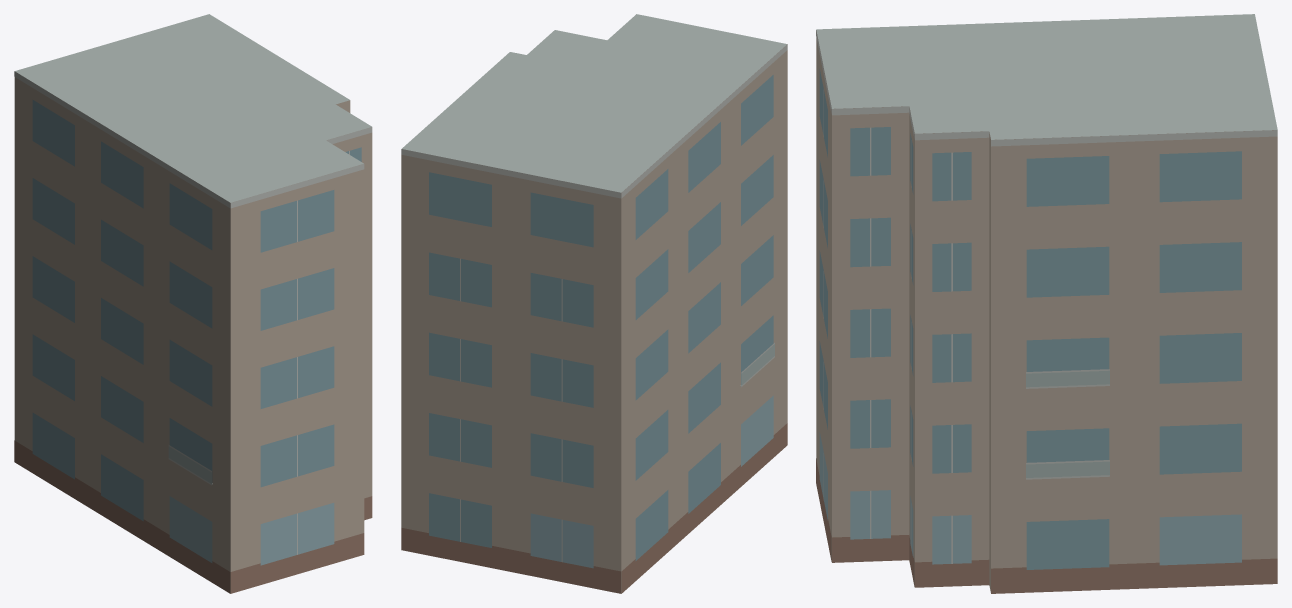
File: survey-upis-32620351.glb
3 views of the same model, side by side, from view 1: azimuth 30°, elevation 25°; view 2: azimuth 150°, elevation 25°; view 3: azimuth 270°, elevation 25° (orthographic). The views are drawn at different scales.
Parts seen in each view (by area): view 1: survey-upis-32620351.tmp; view 2: survey-upis-32620351.tmp; view 3: survey-upis-32620351.tmp.
Part boxes in pixels (left/top/right/bottom): survey-upis-32620351.tmp: left=14, top=14, right=372, bottom=593; survey-upis-32620351.tmp: left=401, top=14, right=787, bottom=593; survey-upis-32620351.tmp: left=816, top=14, right=1277, bottom=593.
Size of the model in its own units: 10 by 16.8 by 15.49.
